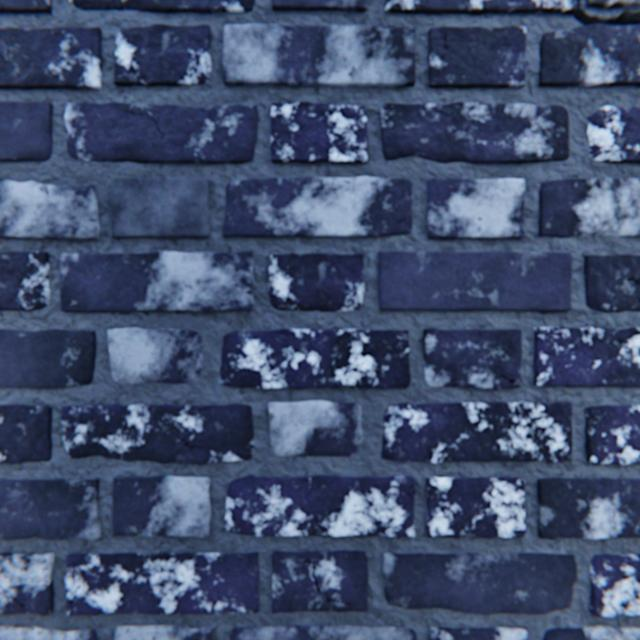brick: (66, 551, 259, 614), (223, 25, 415, 88), (382, 552, 575, 613), (225, 474, 414, 536), (66, 103, 258, 164), (381, 401, 571, 462), (61, 252, 254, 312), (378, 251, 570, 311), (62, 403, 254, 463), (380, 103, 567, 164), (223, 177, 412, 237), (219, 329, 409, 388), (0, 28, 103, 90), (533, 326, 639, 386), (537, 477, 639, 538), (538, 26, 639, 87), (426, 476, 524, 537), (423, 328, 521, 389), (0, 479, 101, 538), (538, 179, 639, 238), (428, 27, 524, 89), (115, 25, 211, 87), (114, 475, 211, 536), (0, 180, 100, 239), (272, 549, 367, 611), (112, 178, 210, 238), (270, 103, 366, 164), (427, 179, 524, 238), (0, 329, 97, 387), (269, 253, 363, 311), (109, 328, 203, 383), (269, 400, 361, 455), (0, 551, 55, 613), (583, 404, 639, 463), (583, 254, 639, 312), (0, 102, 54, 161), (588, 553, 639, 615), (0, 404, 53, 462), (384, 0, 575, 16), (0, 251, 51, 310), (586, 107, 639, 163), (69, 0, 255, 15), (231, 624, 416, 639), (116, 624, 212, 639), (0, 625, 98, 639), (542, 625, 639, 639), (428, 626, 526, 639), (272, 0, 366, 13), (0, 0, 52, 14), (585, 0, 639, 10)
crack: (304, 557, 350, 603), (572, 0, 639, 27), (429, 33, 464, 77), (120, 110, 164, 140), (181, 430, 226, 450), (0, 583, 25, 605), (401, 490, 414, 513), (622, 275, 639, 288), (498, 374, 519, 382), (68, 587, 79, 601), (196, 405, 210, 416), (431, 109, 452, 116), (0, 56, 15, 64), (193, 418, 197, 429), (408, 483, 414, 489), (90, 219, 97, 222), (246, 291, 252, 294)
